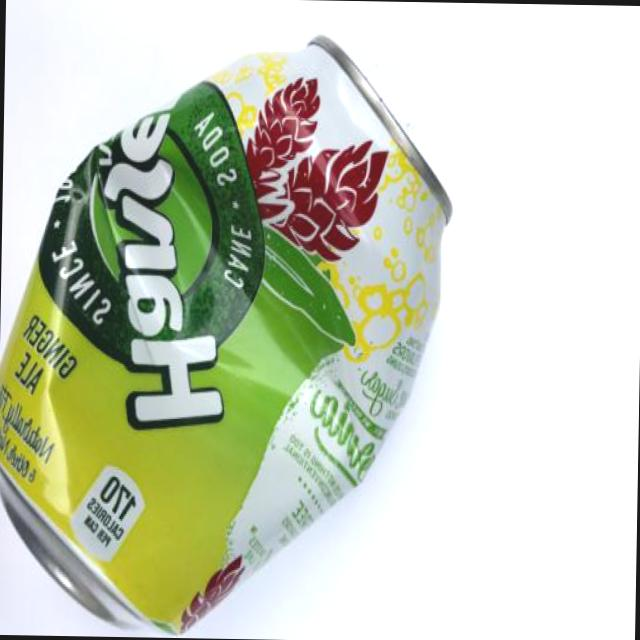kim_loai: (0, 37, 450, 633)
